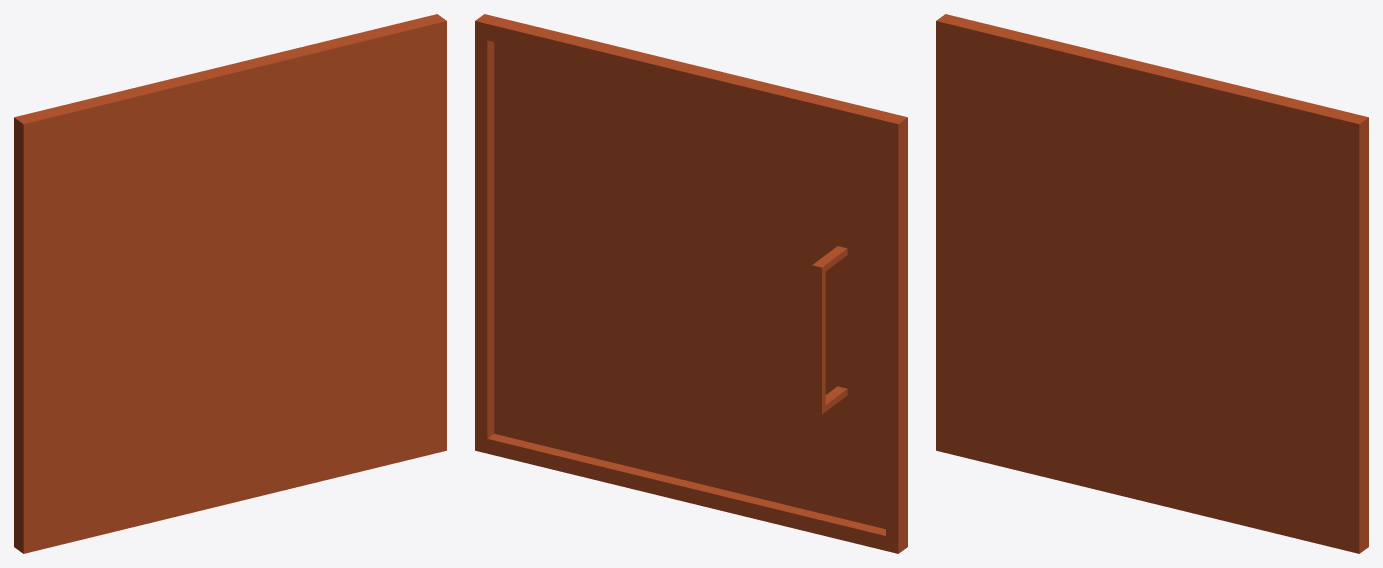
Rendered from PorteBureau01.fbx.
The picture shows the model from 3 angles, left to right: view 1: azimuth 30°, elevation 25°; view 2: azimuth 150°, elevation 25°; view 3: azimuth 330°, elevation 25°; orthographic projection.
Parts seen in each view (by area): view 1: PorteBureau01; view 2: PorteBureau01; view 3: PorteBureau01.
Part boxes in pixels (x1,y1,x2,y2): PorteBureau01: [14, 14, 446, 553]; PorteBureau01: [475, 14, 907, 553]; PorteBureau01: [936, 14, 1368, 553].
Bounding box in the file's own units: 58.76 × 56.99 × 6.79.
